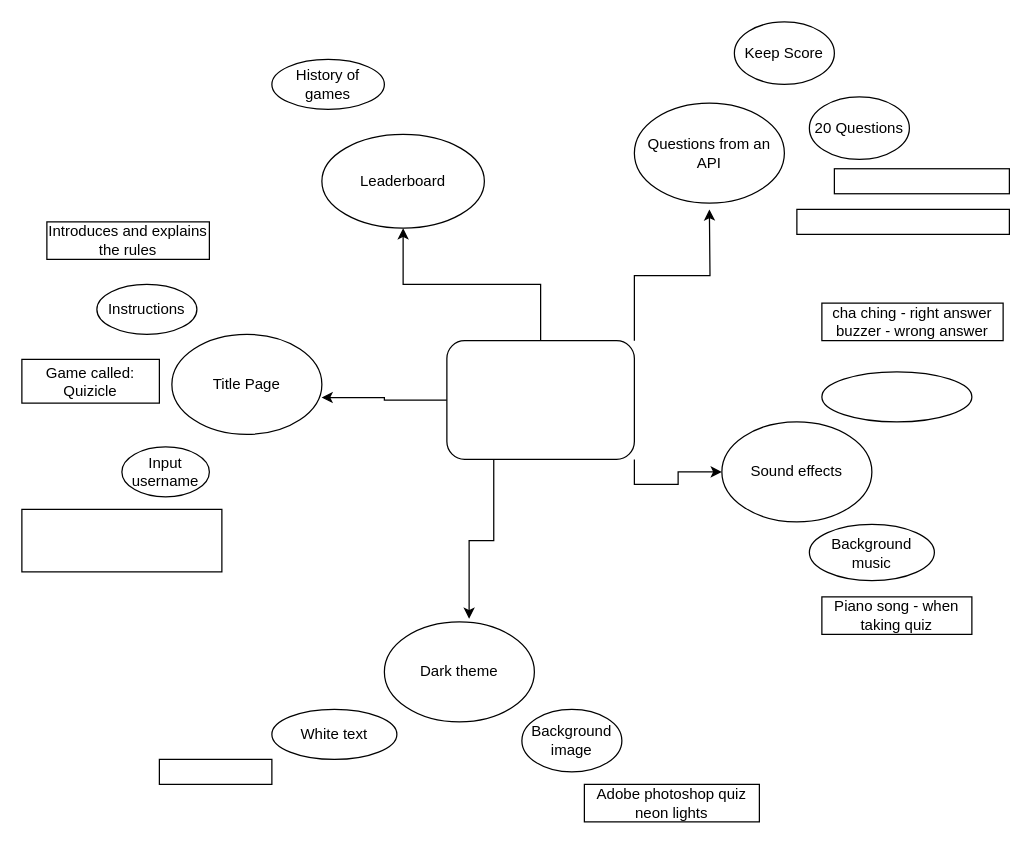
This 1031x844 diagram has some shape labels left out. Each missing label, with the centre of its shape:
General knowledge: the point at 921,181
Hard questions: the point at 902,221
Helvetica: the point at 215,771
min character: 6 letters max character: 12 letters one number: requirement: the point at 121,540
Right & Wrong feedback: the point at 896,396
Trivia Game: the point at 540,399
